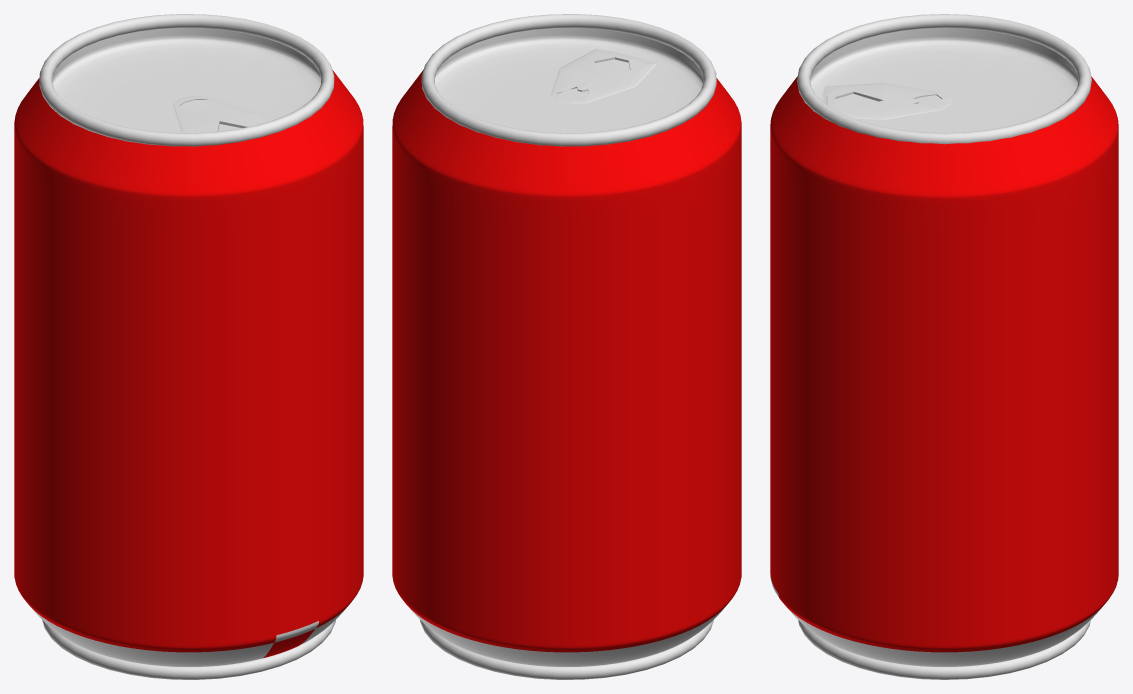
Rendered from sodacan.fbx.
3 views of the same model, side by side, from view 1: azimuth 30°, elevation 25°; view 2: azimuth 150°, elevation 25°; view 3: azimuth 270°, elevation 25° (orthographic).
Parts seen in each view (by area): view 1: pCylinder1, pTorus2, pTorus1, pSphere1; view 2: pCylinder1, pTorus2, pTorus1, pSphere1; view 3: pCylinder1, pTorus2, pTorus1, pSphere1.
Part boxes in pixels (x1,y1,x2,y2): pCylinder1: (14, 28, 363, 666); pTorus2: (39, 14, 334, 146); pTorus1: (42, 620, 335, 679); pSphere1: (172, 96, 265, 133); pCylinder1: (392, 28, 741, 666); pTorus2: (421, 14, 716, 146); pTorus1: (420, 620, 713, 679); pSphere1: (550, 49, 657, 104); pCylinder1: (770, 28, 1118, 666); pTorus2: (797, 14, 1091, 144); pTorus1: (798, 620, 1090, 679); pSphere1: (822, 83, 951, 119).
Size of the model in its own units: 1.97 by 3.4 by 1.97.
